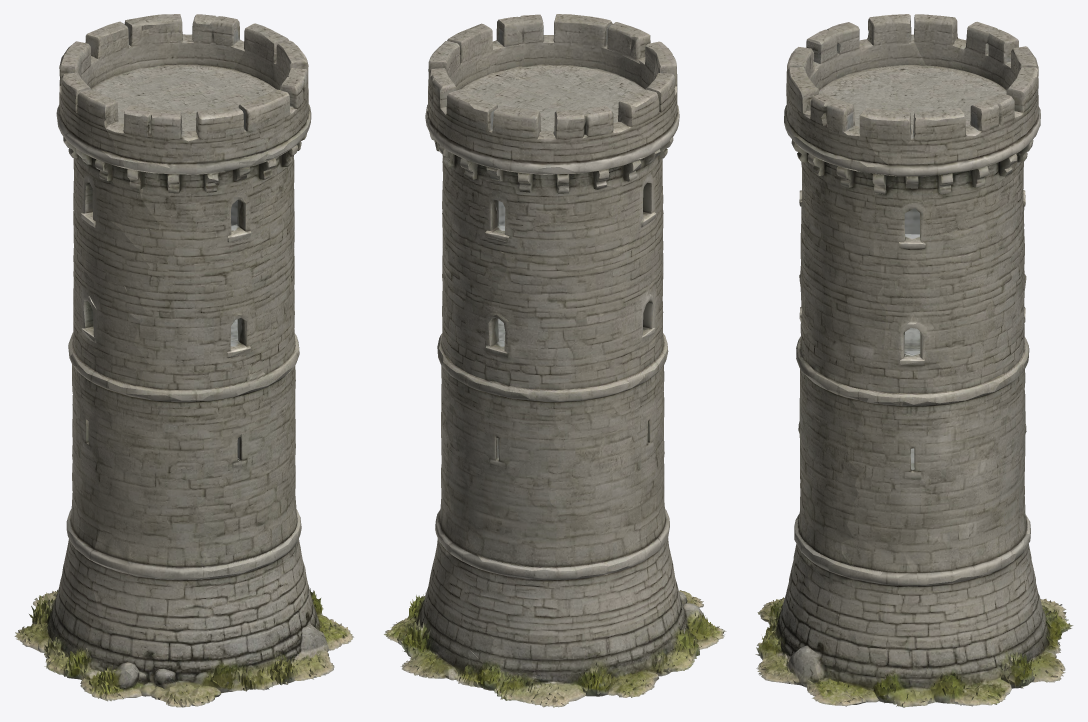
Rendered from fort_m_citadel_tower.glb.
3 renders of one model, left to right at view 1: azimuth 30°, elevation 25°; view 2: azimuth 150°, elevation 25°; view 3: azimuth 270°, elevation 25°, orthographic.
Visible parts, largest first — view 1: fort_m_citadel_tower; view 2: fort_m_citadel_tower; view 3: fort_m_citadel_tower.
Part boxes in pixels (box(x1,y1,x2,y2)): fort_m_citadel_tower: box(14, 14, 353, 707); fort_m_citadel_tower: box(384, 14, 726, 707); fort_m_citadel_tower: box(755, 14, 1073, 707).
Size of the model in its own units: 0.9427 by 1.9 by 0.9495.
Materials: 1 (1 with a texture image).
